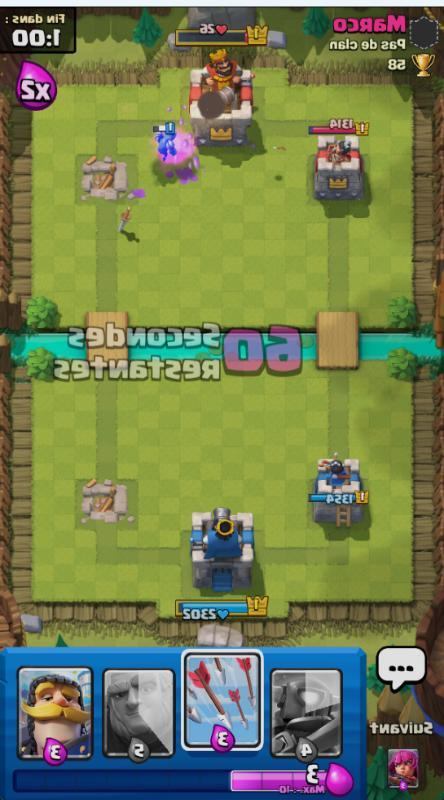player_minions: (150, 117, 180, 164)
